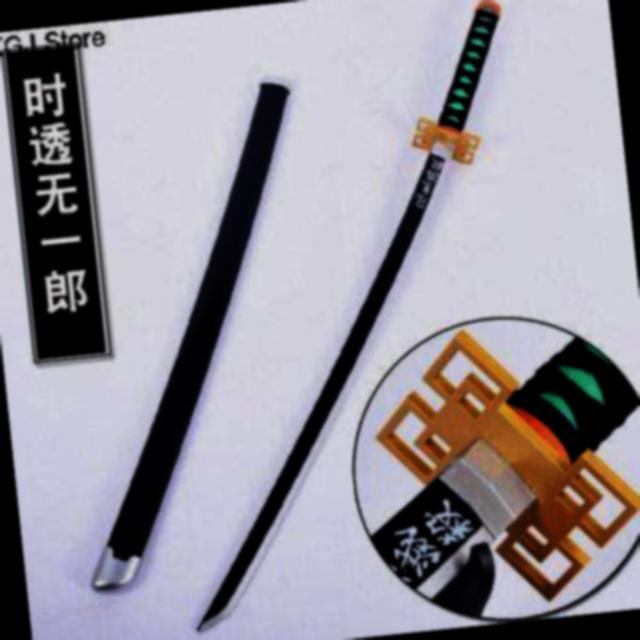long sword: (137, 0, 554, 630)
